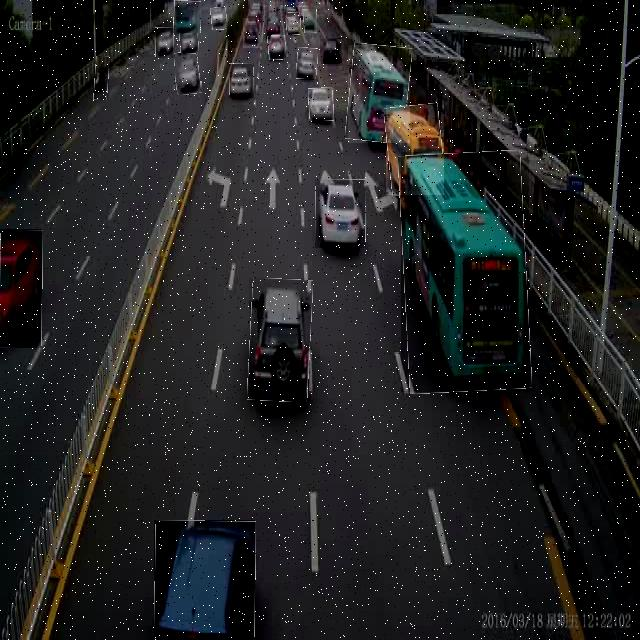Bus: (401, 152, 529, 392), (348, 45, 410, 143), (386, 105, 444, 195), (173, 0, 201, 33)
Car: (154, 520, 255, 640), (249, 278, 311, 402), (0, 229, 42, 348), (315, 179, 366, 248), (176, 52, 202, 94), (229, 63, 254, 98), (308, 88, 334, 121), (297, 48, 317, 79), (155, 27, 174, 58), (320, 38, 342, 64), (243, 18, 261, 48), (180, 27, 198, 54), (268, 35, 285, 60), (211, 8, 226, 30), (287, 12, 301, 35), (304, 9, 317, 33)
Motorcycle: (94, 56, 109, 100)
